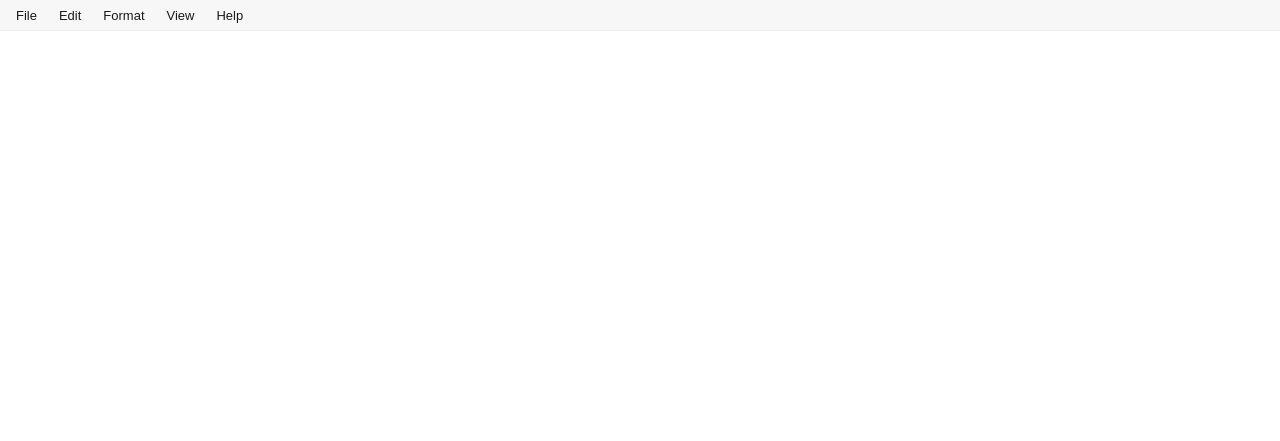
Test: AppMenu › renders one top-level button per menu and opens a single menu at a time
Click the button "File".
click(26, 15)  # box [6, 4, 47, 26]
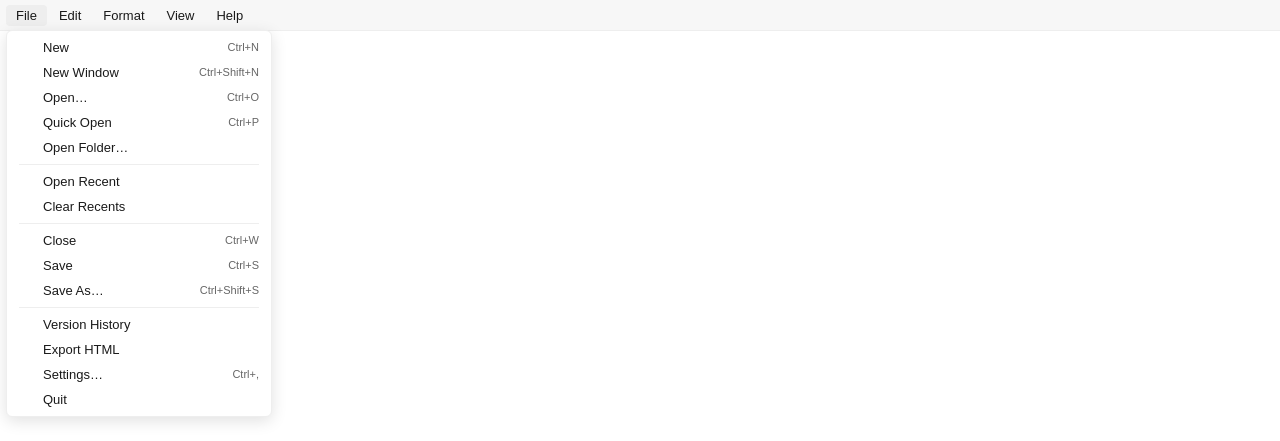
expect the menu item "Save Ctrl+S" is shown: met, box [7, 252, 271, 278]
expect the number of menus is 1: met, box [6, 30, 272, 416]
